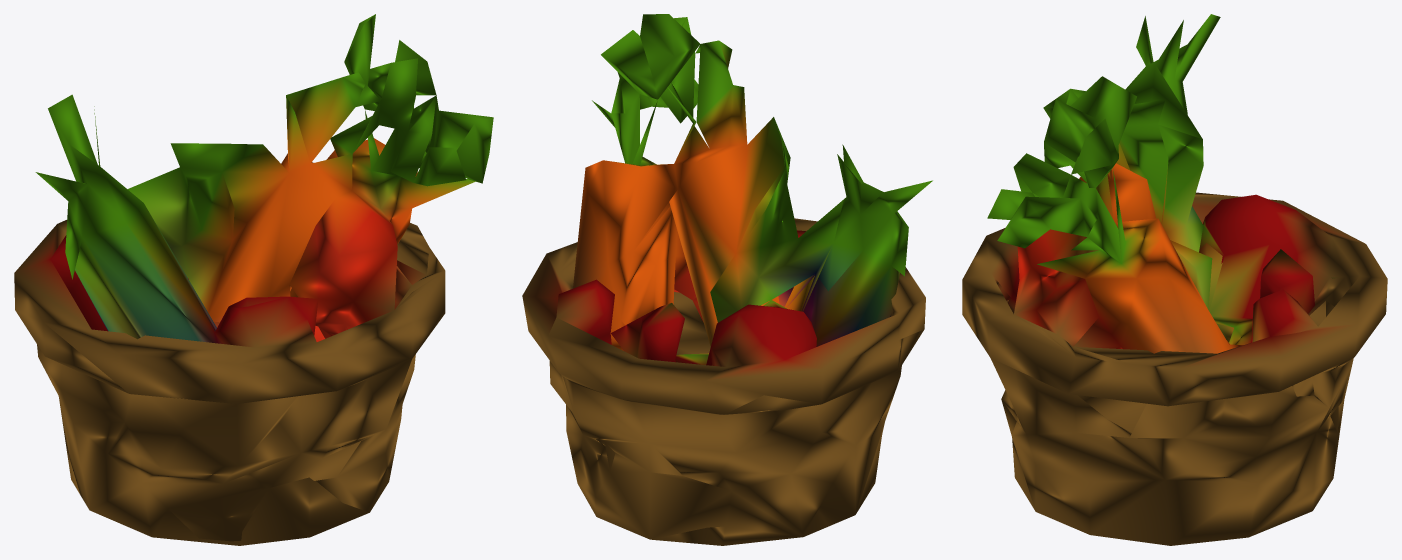
File: gen3d-vegetable-basket-lod1.glb
3 views of the same model, side by side, from view 1: azimuth 30°, elevation 25°; view 2: azimuth 150°, elevation 25°; view 3: azimuth 270°, elevation 25° (orthographic). The views are drawn at different scales.
Parts seen in each view (by area): view 1: part_0; view 2: part_0; view 3: part_0.
Boxes of the visible parts, x1,y1,x2,y2 form: part_0: [14, 14, 493, 545]; part_0: [522, 14, 932, 545]; part_0: [962, 14, 1387, 545].
Size of the model in its own units: 0.9189 by 0.9903 by 0.8465.
